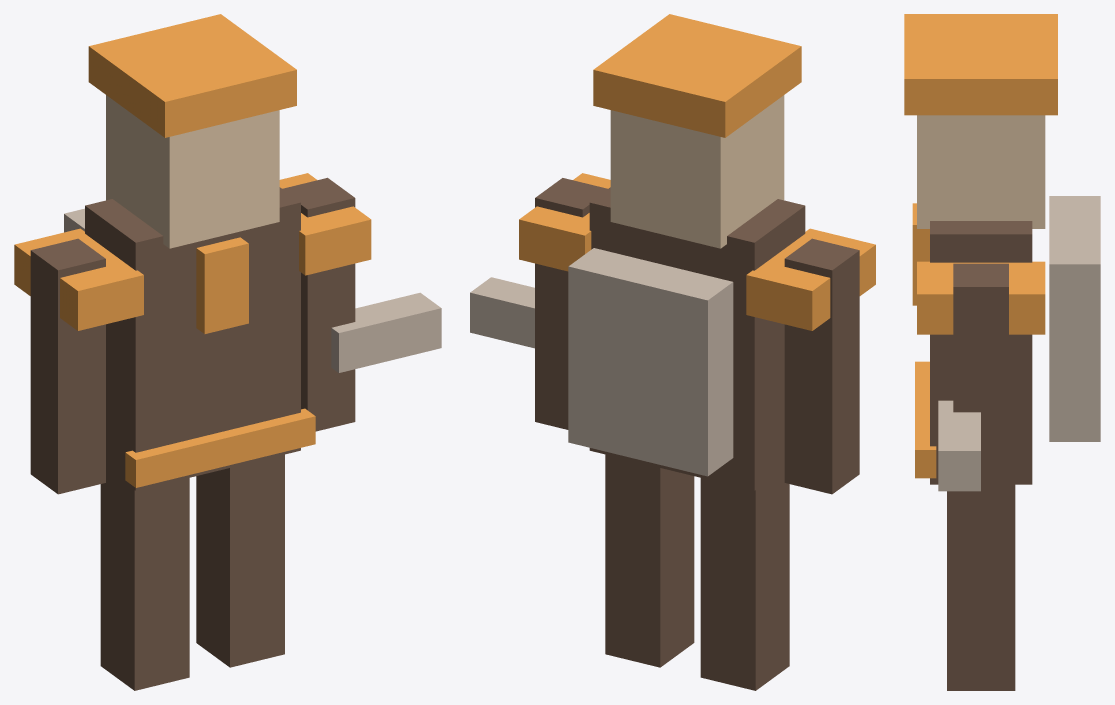
Rendered from 14_auren_voxmere_ranger_of_simulation.glb.
The picture shows the model from 3 angles, left to right: view 1: azimuth 30°, elevation 25°; view 2: azimuth 150°, elevation 25°; view 3: azimuth 270°, elevation 25°; orthographic projection.
Visible parts, largest first — view 1: Auren Voxmere, Ranger of Simulation; view 2: Auren Voxmere, Ranger of Simulation; view 3: Auren Voxmere, Ranger of Simulation.
Part boxes in pixels (left/top/right/bottom): Auren Voxmere, Ranger of Simulation: left=14, top=14, right=441, bottom=690; Auren Voxmere, Ranger of Simulation: left=470, top=14, right=875, bottom=690; Auren Voxmere, Ranger of Simulation: left=904, top=14, right=1100, bottom=690.
Size of the model in its own units: 1.05 by 1.6 by 0.4704.
